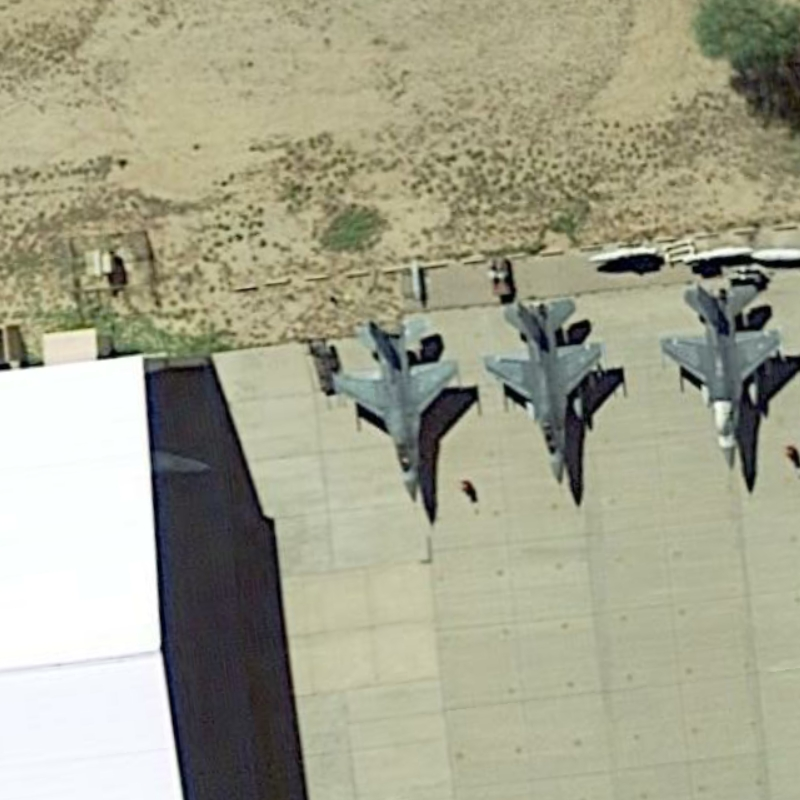A5: (324, 310, 474, 515), (652, 272, 792, 471), (484, 294, 625, 490)
